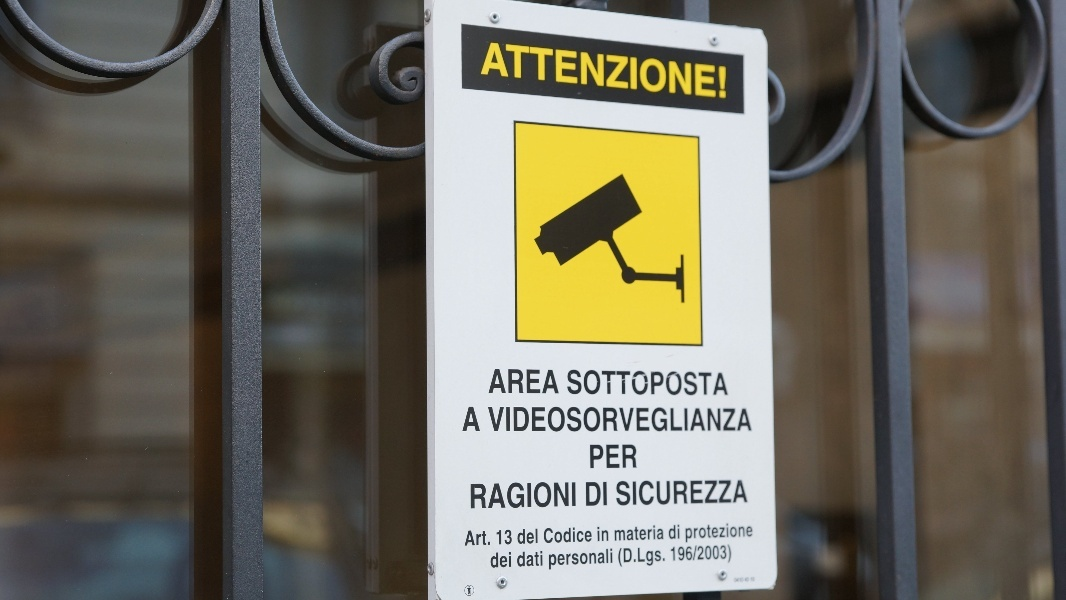text: (497, 42, 512, 99), (513, 42, 528, 99), (529, 42, 544, 99), (545, 42, 560, 99), (561, 42, 576, 99), (577, 42, 592, 99), (593, 42, 608, 99), (609, 42, 624, 99), (625, 42, 640, 99), (641, 42, 656, 99), (657, 42, 672, 99), (673, 42, 688, 99), (689, 42, 704, 99), (705, 42, 720, 99), (561, 483, 577, 509), (737, 407, 753, 432), (577, 370, 592, 396), (593, 370, 608, 396), (609, 370, 624, 396), (625, 370, 640, 396), (641, 370, 656, 396), (657, 370, 672, 396), (673, 370, 688, 396), (689, 370, 704, 396), (705, 370, 720, 396), (481, 483, 496, 509), (497, 483, 512, 509), (513, 483, 528, 509), (529, 483, 544, 509), (545, 483, 560, 509), (625, 547, 640, 573), (641, 547, 656, 573), (497, 369, 512, 394), (513, 369, 528, 394), (529, 369, 544, 394), (497, 407, 512, 432), (513, 407, 528, 432), (529, 407, 544, 432), (545, 407, 560, 432), (561, 407, 576, 432), (577, 407, 592, 432), (593, 407, 608, 432), (609, 407, 624, 432), (625, 407, 640, 432), (641, 407, 656, 432), (657, 407, 672, 432), (673, 407, 688, 432), (689, 407, 704, 432), (705, 407, 720, 432), (721, 407, 736, 432), (593, 445, 608, 469), (609, 445, 624, 469), (625, 481, 640, 505), (641, 481, 656, 505), (657, 481, 672, 505), (673, 481, 688, 505), (689, 481, 704, 505), (705, 481, 720, 505), (721, 481, 736, 505), (545, 369, 559, 394), (593, 482, 607, 506), (737, 522, 753, 543), (561, 549, 576, 571), (577, 549, 592, 571), (593, 549, 608, 571), (689, 522, 704, 543), (705, 522, 720, 543), (721, 522, 736, 543), (705, 544, 720, 564), (625, 445, 637, 469), (491, 42, 496, 99), (721, 42, 726, 99), (469, 407, 480, 432), (625, 523, 640, 541), (641, 523, 656, 541), (737, 481, 748, 505), (577, 528, 593, 544), (549, 549, 560, 571), (545, 528, 560, 544), (561, 528, 576, 544), (529, 551, 543, 568), (471, 483, 480, 509), (497, 530, 512, 545), (497, 553, 512, 568), (673, 547, 688, 561), (568, 370, 576, 396), (657, 547, 665, 573), (721, 544, 731, 564), (721, 370, 728, 396), (597, 526, 608, 542), (489, 407, 496, 432), (518, 551, 528, 568), (617, 481, 624, 505), (469, 531, 480, 546), (615, 523, 624, 541), (518, 529, 528, 545), (481, 531, 491, 546), (586, 482, 592, 506), (529, 529, 538, 545), (694, 547, 704, 561), (619, 547, 624, 573), (657, 523, 664, 541), (698, 544, 704, 564), (673, 525, 680, 539), (609, 549, 613, 571), (491, 553, 496, 568), (590, 445, 592, 469), (686, 522, 688, 543), (689, 547, 692, 561), (670, 525, 672, 539), (670, 547, 672, 561), (737, 578, 744, 582), (745, 578, 752, 582), (495, 369, 496, 394), (753, 577, 755, 582), (751, 577, 752, 582), (735, 578, 736, 582)
